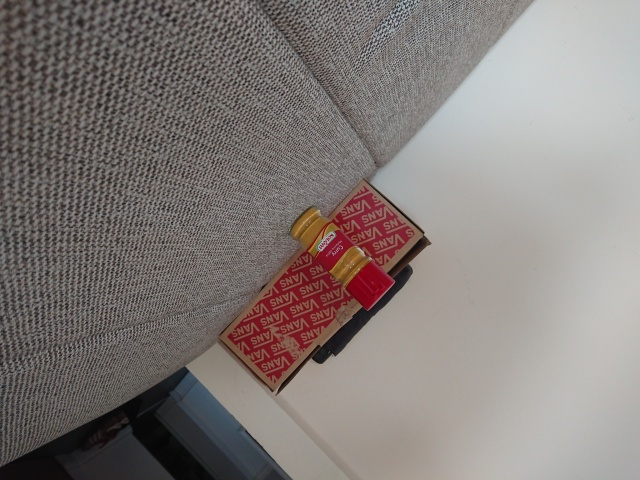Kotanyi Curry Spices Mix 70g: (286, 203, 397, 313)
